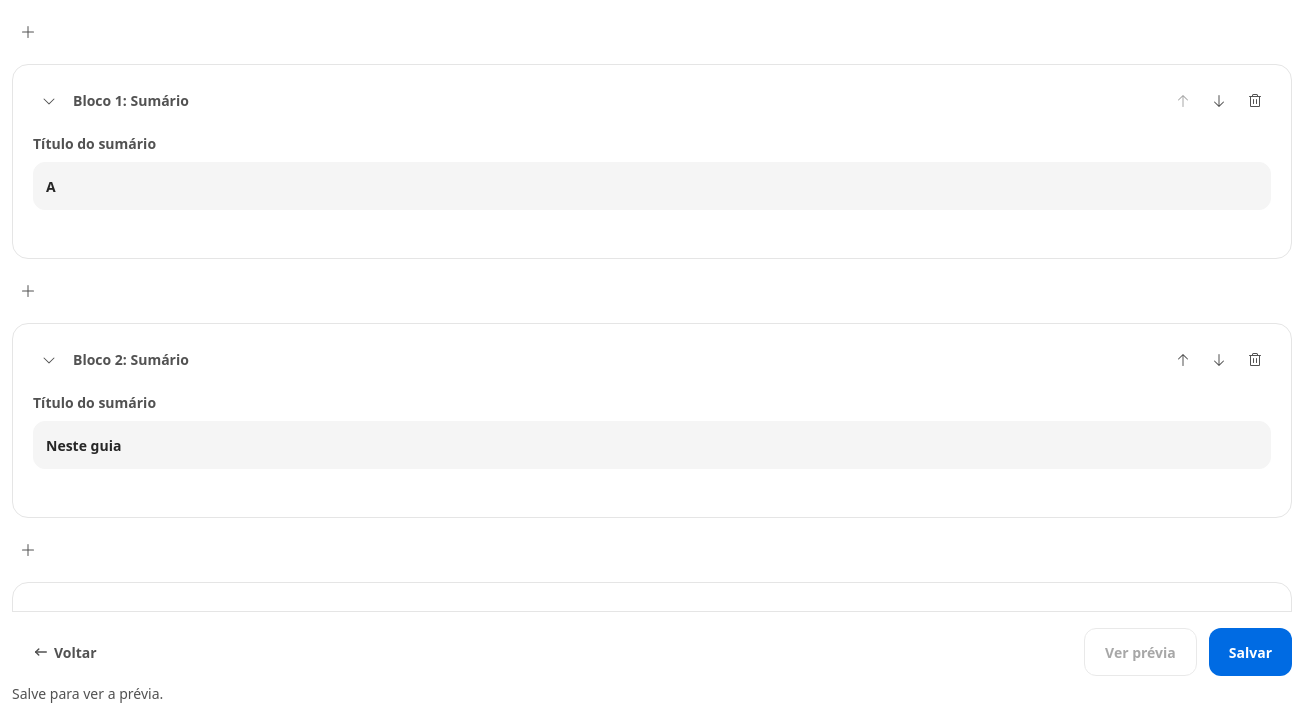
recolher e expandir blocos (#135) › salvar mantém recolhido o que estava recolhido
(page scrolled)
Click the button named "Conteúdo do bloco 2" at (49, 360), box [33,344,65,376]
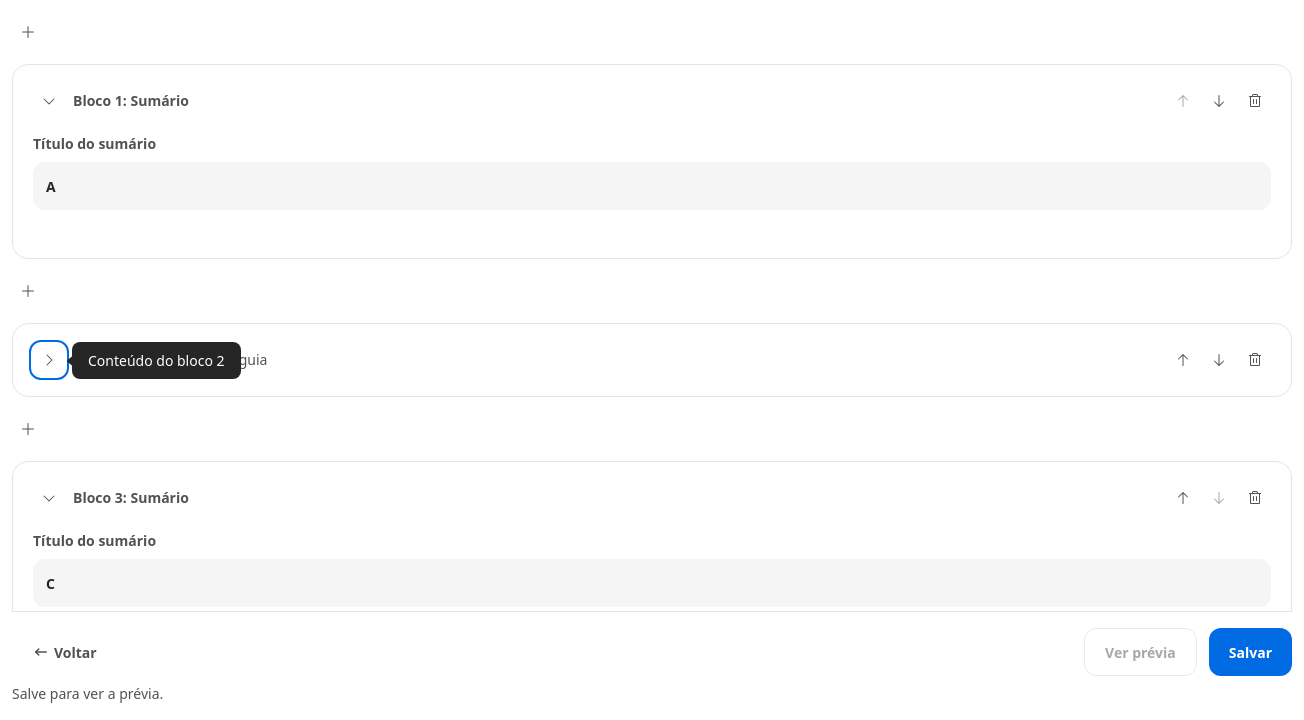
Click the button "Salvar" at (1250, 652), box [1209,628,1292,676]
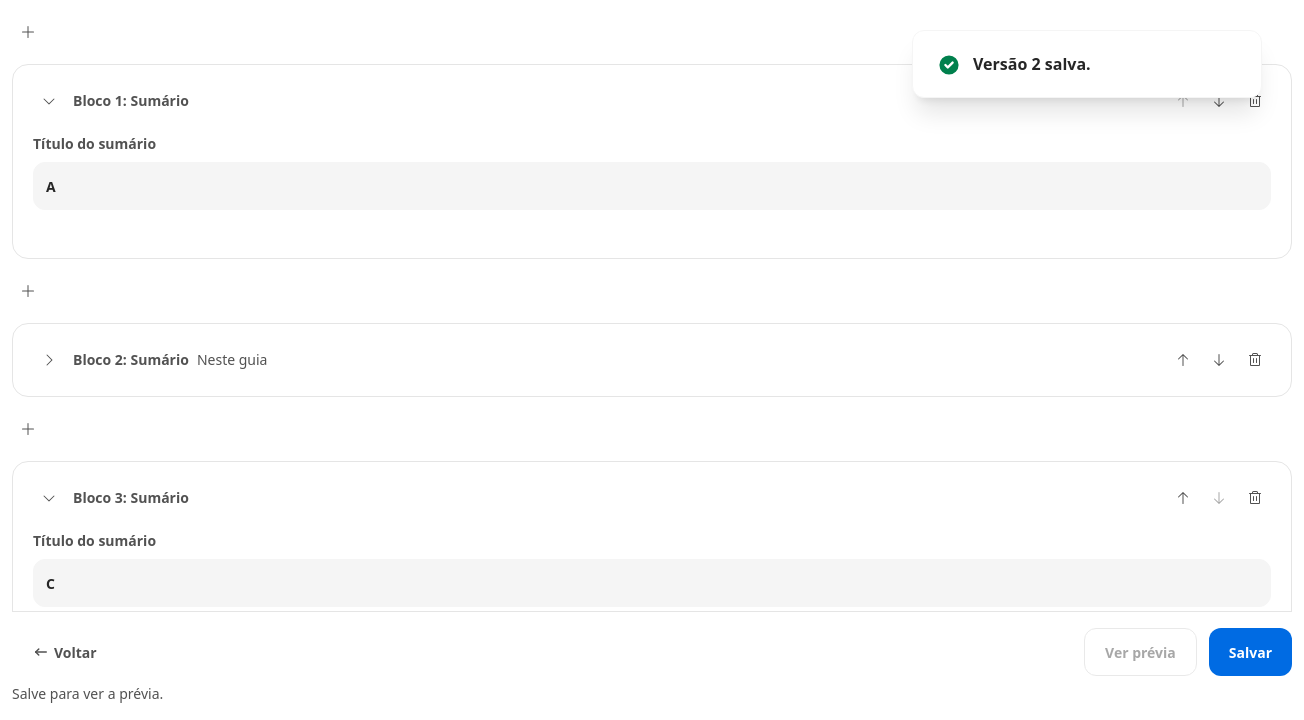
Result: the text "Versão 2 salva." is shown at [973,52,1091,76]
